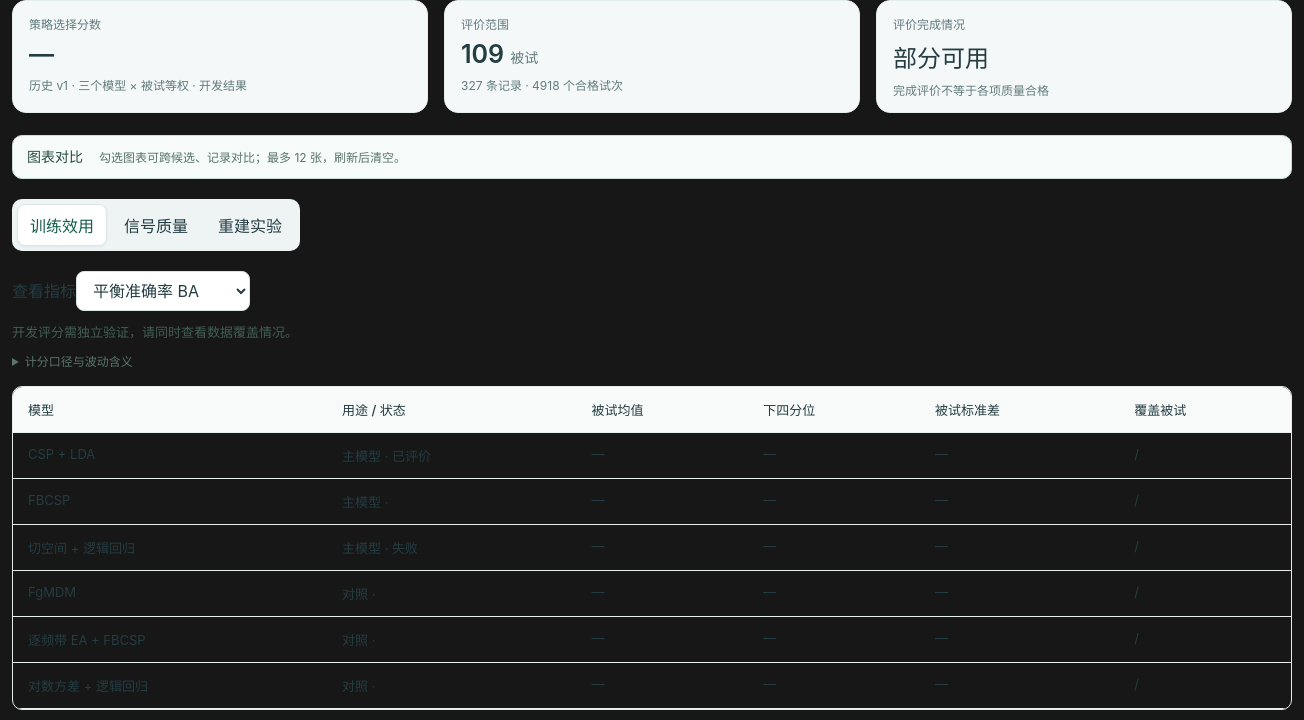
it: multi-axis assessment › shows missing reconstruction results with their assigned denominator
Click the button "重建实验".
click(250, 225)  # box x1=205 y1=204 x2=295 y2=246
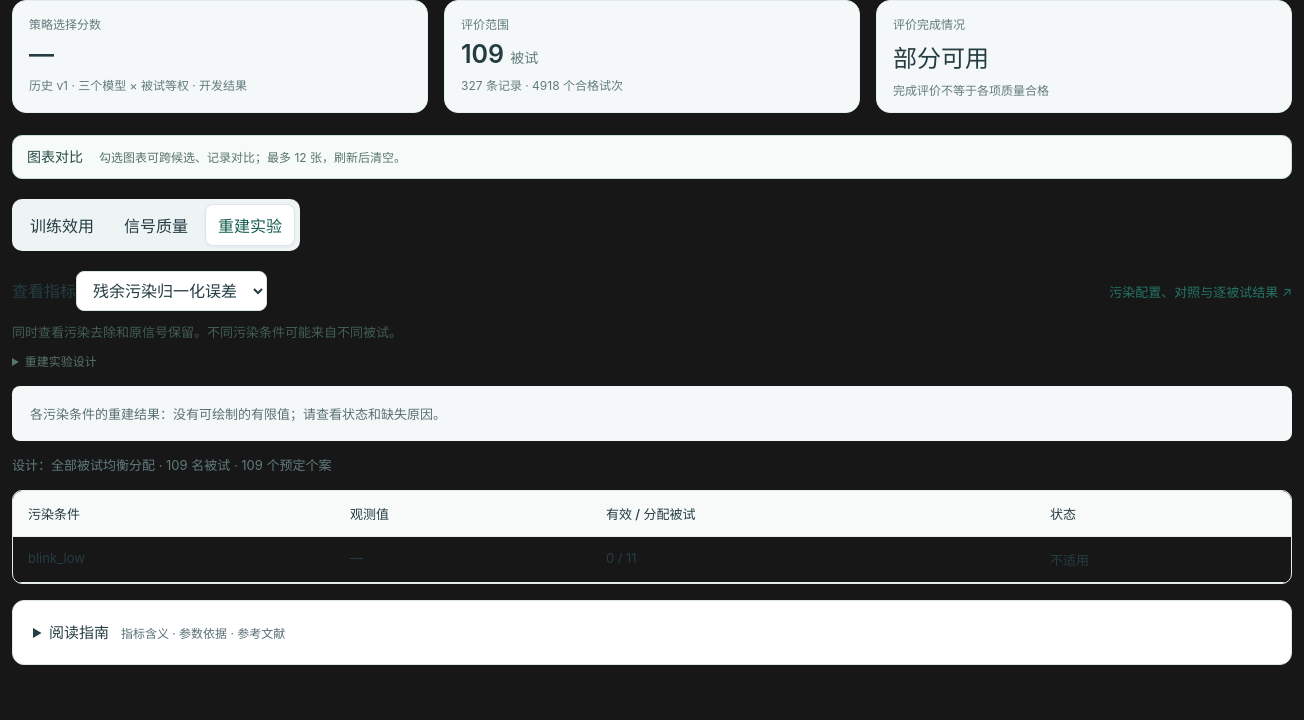
Expected: the table shows "—", x1=350 y1=550 x2=363 y2=566
Result: the table shows "0 / 11" at x1=606 y1=550 x2=637 y2=566
Result: the table shows "不适用" at x1=1050 y1=552 x2=1089 y2=568
